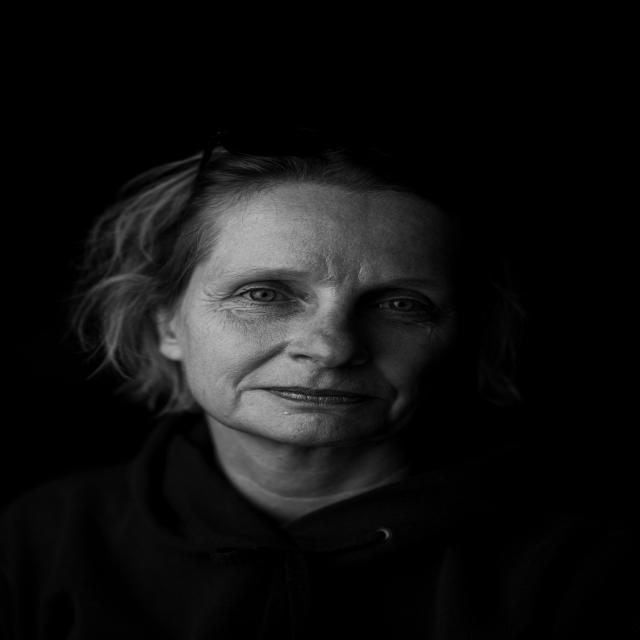adult: (0, 139, 551, 640)
